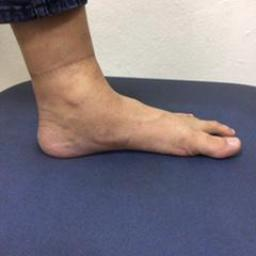Medial View -Left Foot-: (22, 65, 251, 184)
